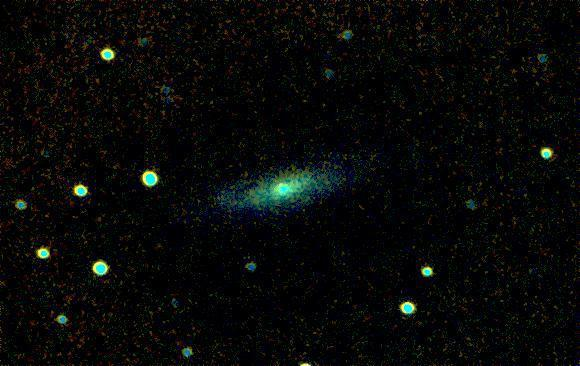star: (328, 164, 358, 194)
